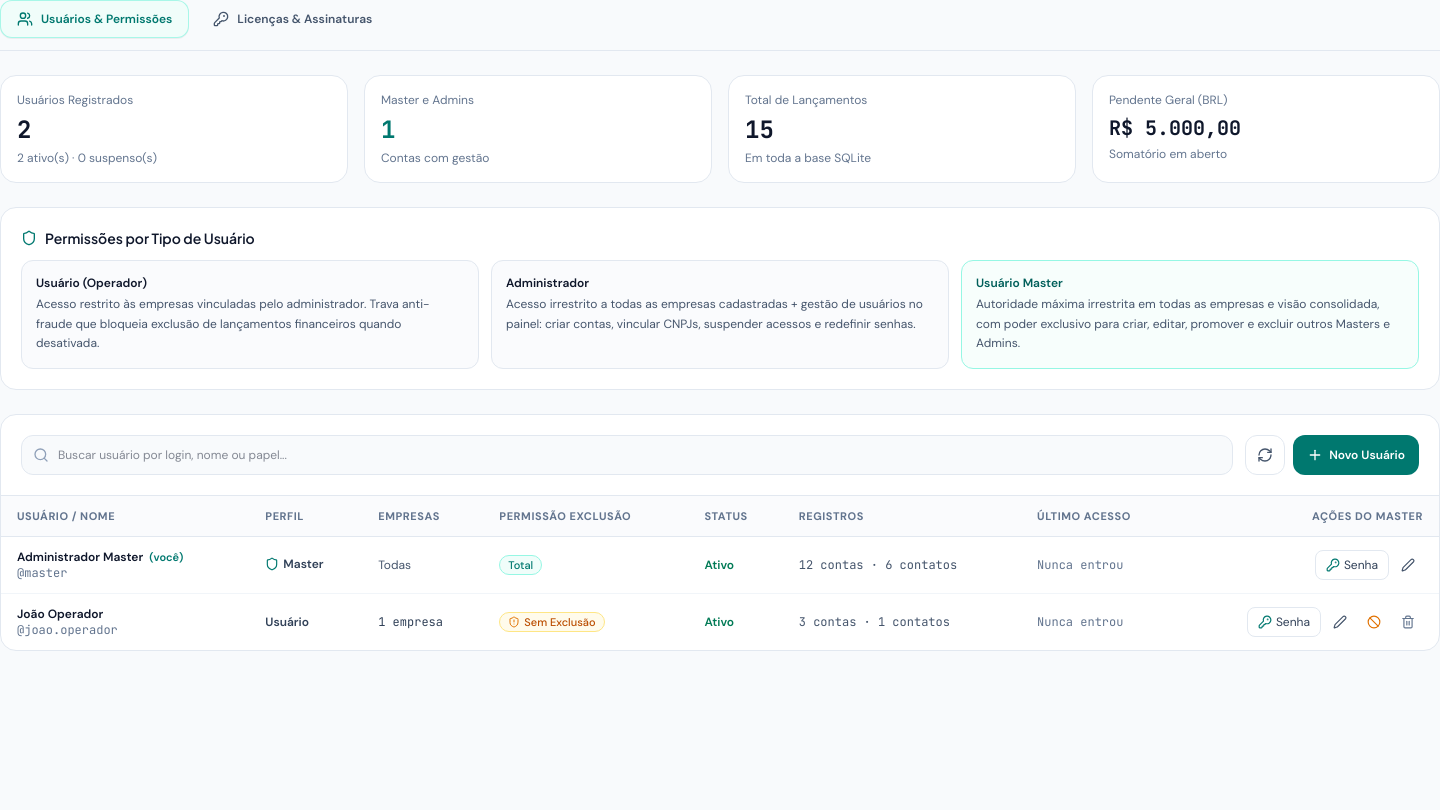
Scenario: AdminView — Fase 9.3 (Permissões por Empresa, Trava de Exclusão e Modais) › 2. Deve renderizar os checkboxes de empresas ativas e a trava de segurança anti-fraude canDelete
The image size is (1440, 810).
Check: the text "Administrador Master" is shown, box top-left (17, 549), bottom-right (143, 565)
Abrir modal de criação
Click the button "Novo Usuário". click: (1356, 454)
box: top-left (1293, 434), bottom-right (1419, 474)
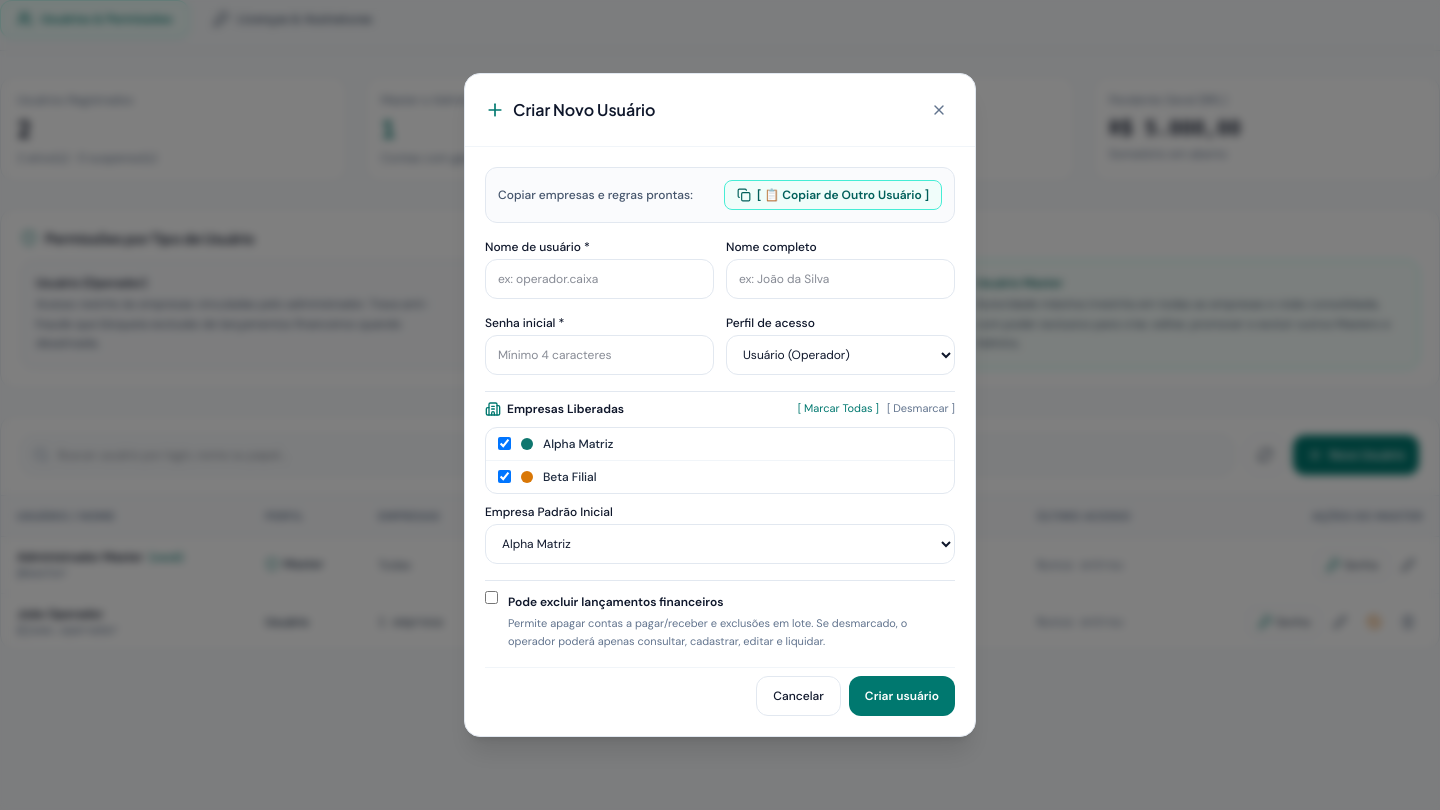
Check: the text "Empresas Liberadas" is shown, box top-left (507, 401), bottom-right (624, 417)
Check: the checkbox labelled "Alpha Matriz" is shown, box top-left (498, 437), bottom-right (511, 450)
Check: the checkbox labelled "Beta Filial" is shown, box top-left (498, 470), bottom-right (511, 483)
